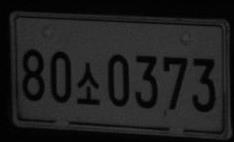0: (48, 50, 73, 103), (106, 53, 130, 107)
3: (191, 57, 217, 113), (133, 54, 159, 109)
7: (162, 55, 187, 111)
8: (20, 47, 46, 102)
소: (74, 61, 100, 105)
